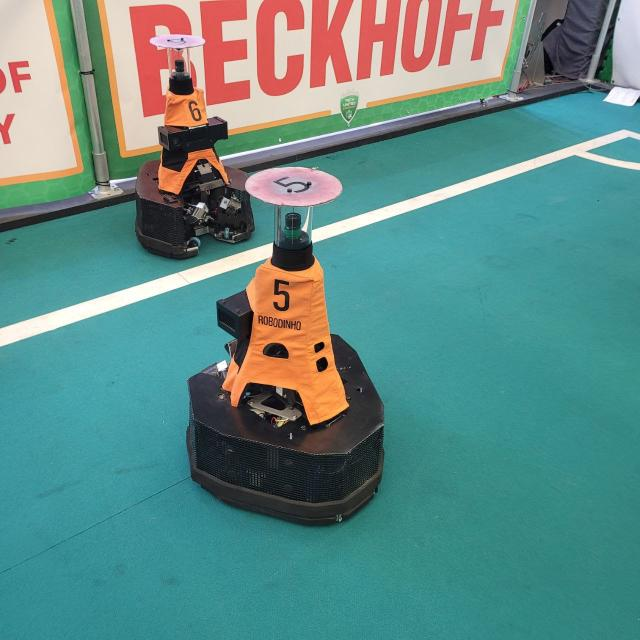Robots: (202, 158, 401, 522), (160, 28, 251, 260)
